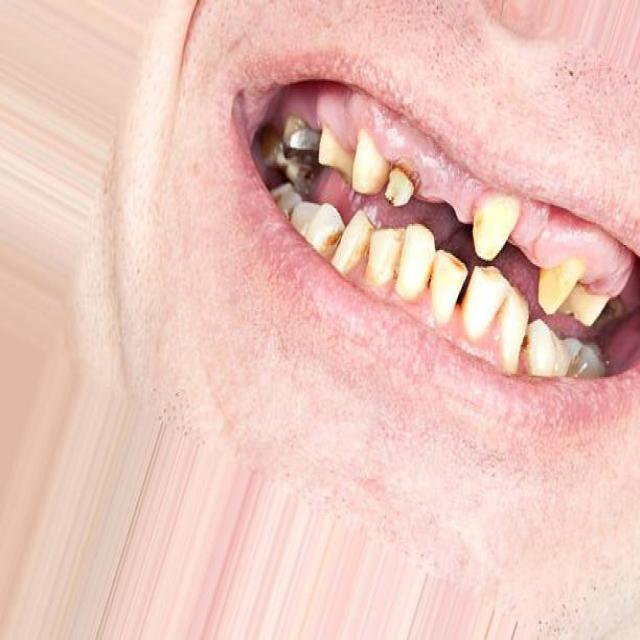caries: (383, 153, 424, 213), (280, 114, 318, 160), (515, 327, 543, 367)
